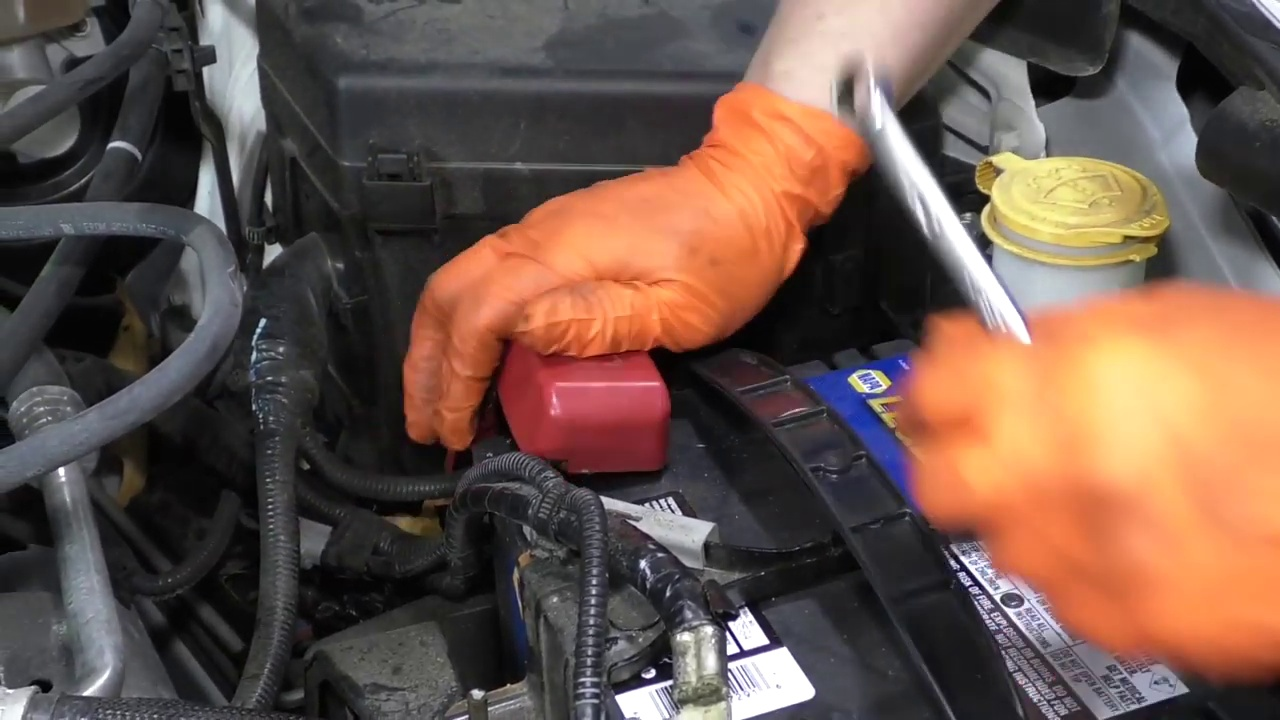battery: (449, 331, 1221, 720)
pos_touched: (401, 174, 709, 487)
